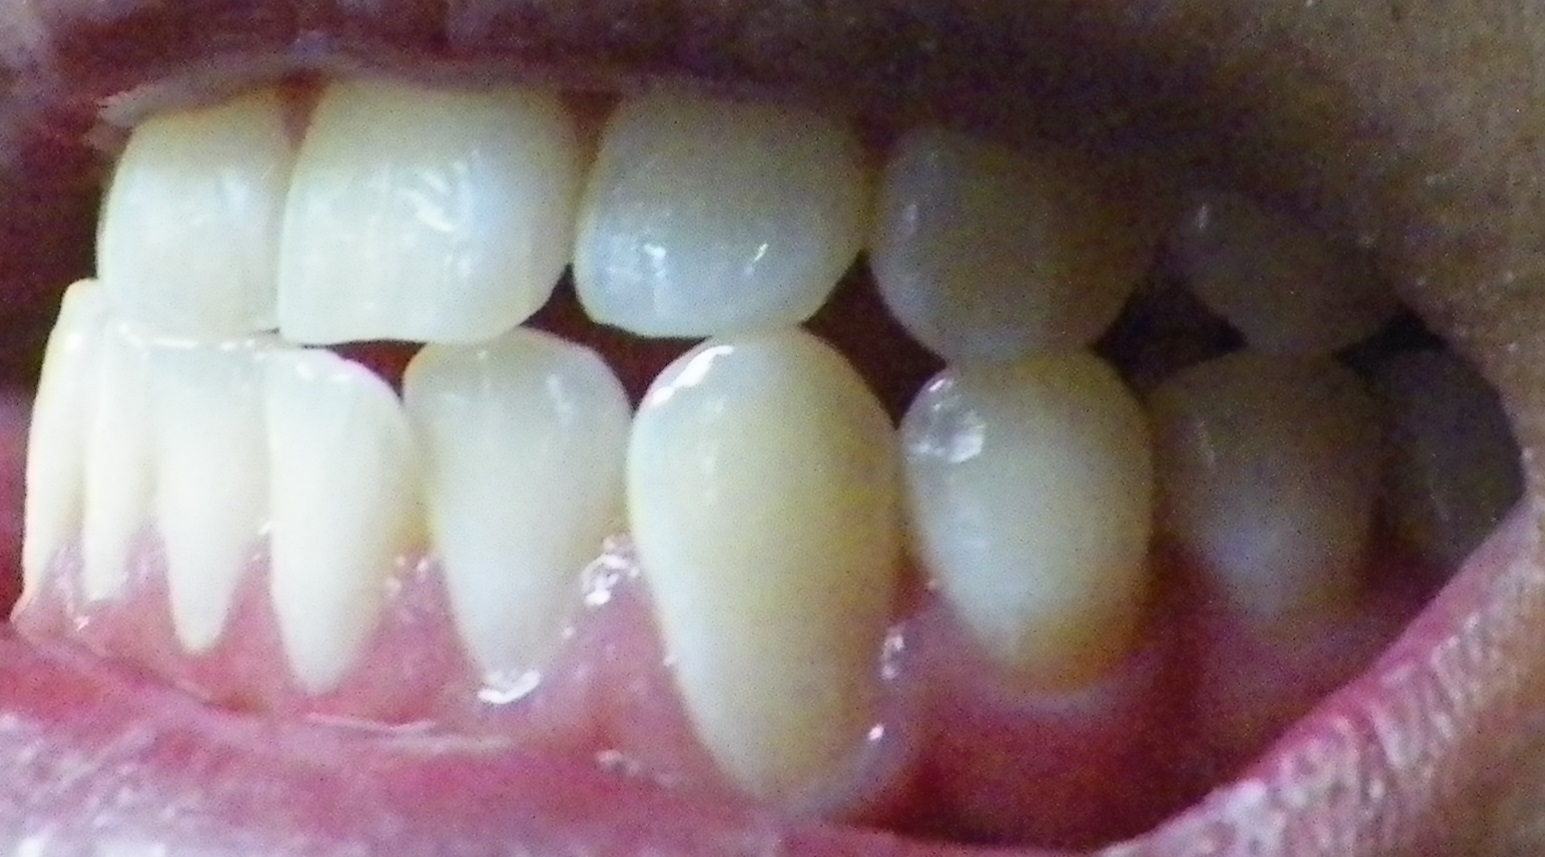boca: (6, 90, 1394, 756)
